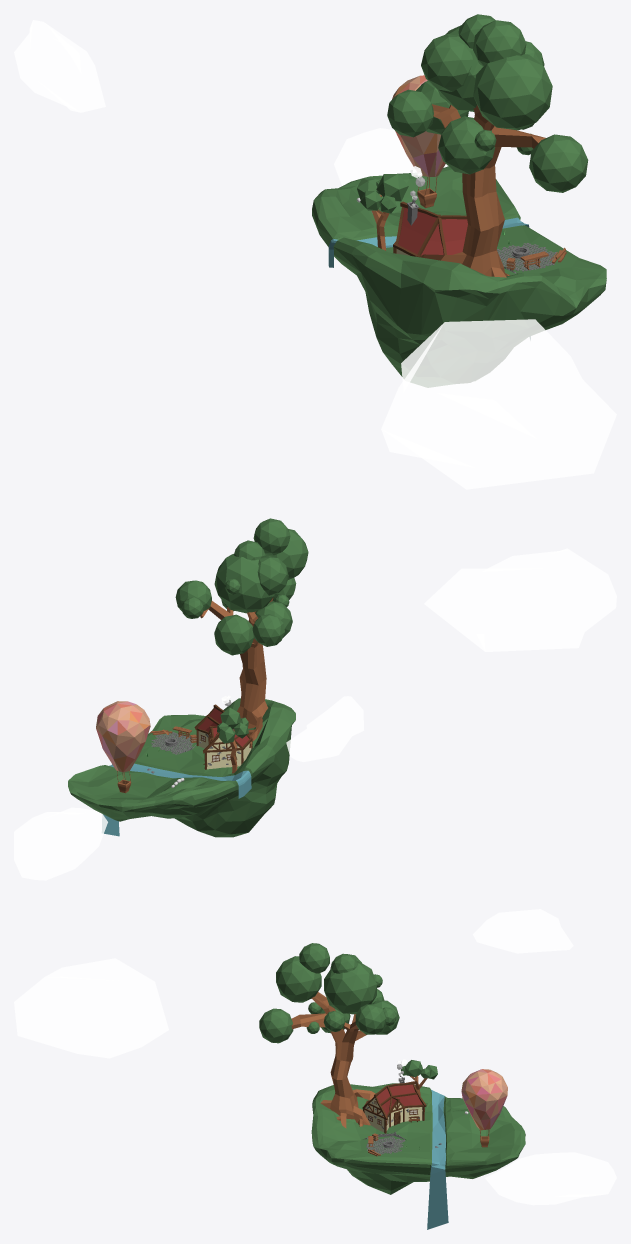
File: IslandBuildTestUpload01.glb
3 renders of one model, top to bottom at view 1: azimuth 30°, elevation 25°; view 2: azimuth 150°, elevation 25°; view 3: azimuth 270°, elevation 25°, orthographic. The views are drawn at different scales.
Visible parts, largest first — view 1: Ground, Cloud_01, Tree.001, Cloud_01.001, Cloud_02, HotAirBalloon_Balloon, Wall.012, Cobbestone ground, Wall.013; view 2: Ground, Cloud_01, Tree.001, Cloud_02, Cloud_01.001, HotAirBalloon_Balloon, River, Cobbestone ground; view 3: Ground, Cloud_01, Tree.001, Cloud_02, Cloud_01.001, River, HotAirBalloon_Balloon.
Part boxes in pixels (x1,y1,x2,y2): Ground: (312,166,606,387); Cloud_01: (381,319,616,489); Tree.001: (387,14,588,277); Cloud_01.001: (14,20,105,112); Cloud_02: (334,128,448,185); HotAirBalloon_Balloon: (392,75,445,176); Wall.012: (398,207,436,254); Cobbestone ground: (497,243,556,271); Wall.013: (441,219,467,254); Ground: (68,698,295,837); Cloud_01: (424,548,616,651); Tree.001: (175,518,308,747); Cloud_02: (14,807,107,880); Cloud_01.001: (286,696,363,761); HotAirBalloon_Balloon: (96,701,150,772); River: (102,763,251,836); Cobbestone ground: (151,732,193,754); Ground: (311,1083,525,1194); Cloud_01: (14,958,168,1058); Tree.001: (259,943,399,1128); Cloud_02: (485,1152,616,1205); Cloud_01.001: (473,909,573,953); River: (427,1089,448,1229); HotAirBalloon_Balloon: (461,1069,507,1130).
Bounding box in the file's own units: 34.16 × 30.92 × 67.98.
